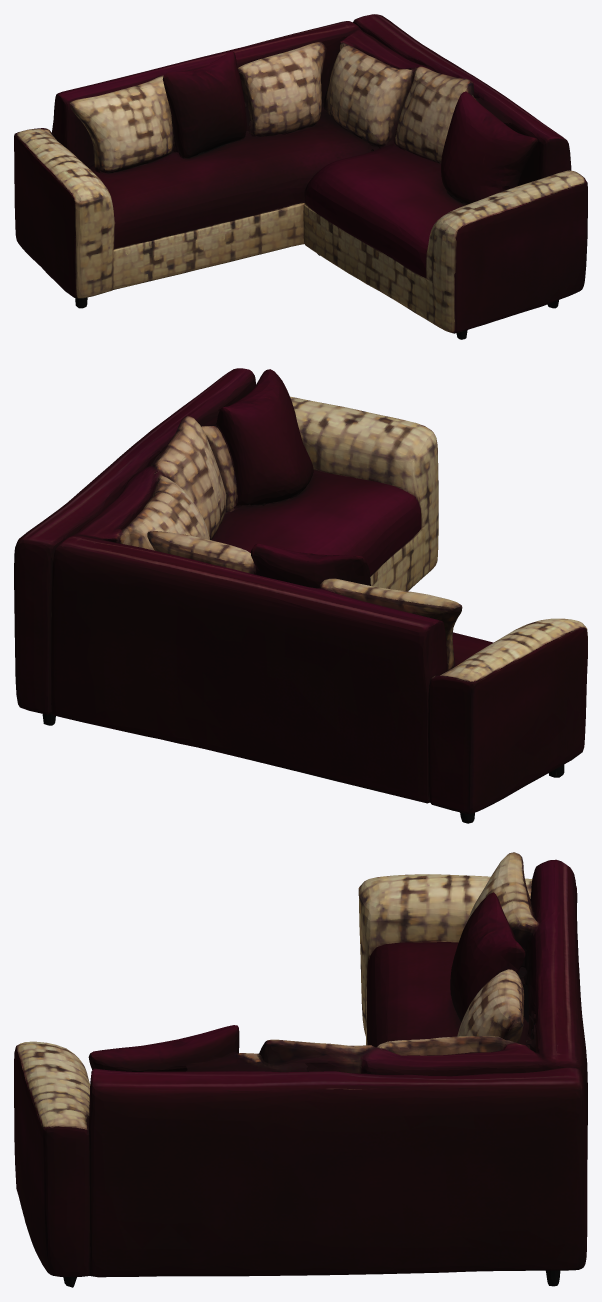
The model's file is sofa_two_tone_l_shape.glb.
The picture shows the model from 3 angles, top to bottom: view 1: azimuth 30°, elevation 25°; view 2: azimuth 150°, elevation 25°; view 3: azimuth 270°, elevation 25°; orthographic projection. The views are drawn at different scales.
Parts seen in each view (by area): view 1: world; view 2: world; view 3: world.
Boxes of the visible parts, bbox=[...] form: world: bbox=[14, 14, 587, 339]; world: bbox=[14, 368, 587, 823]; world: bbox=[14, 852, 587, 1287].
Size of the model in its own units: 0.9977 by 0.425 by 0.9164.
Materials: 1 (1 with a texture image).
